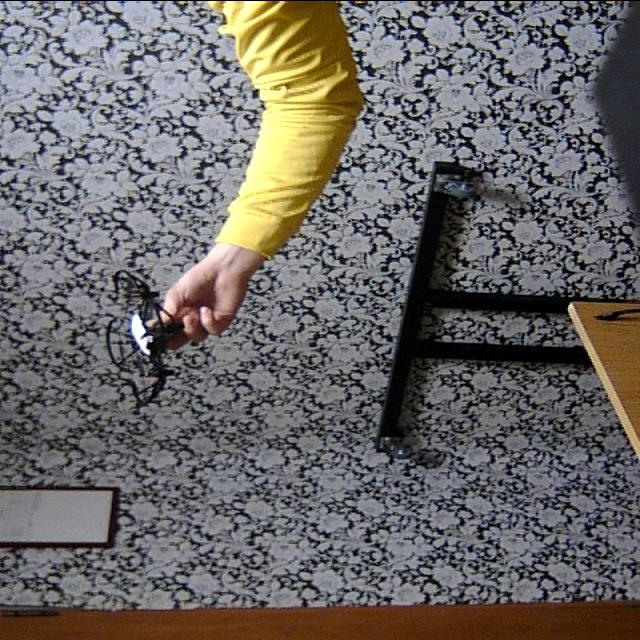drone: (81, 260, 183, 410)
